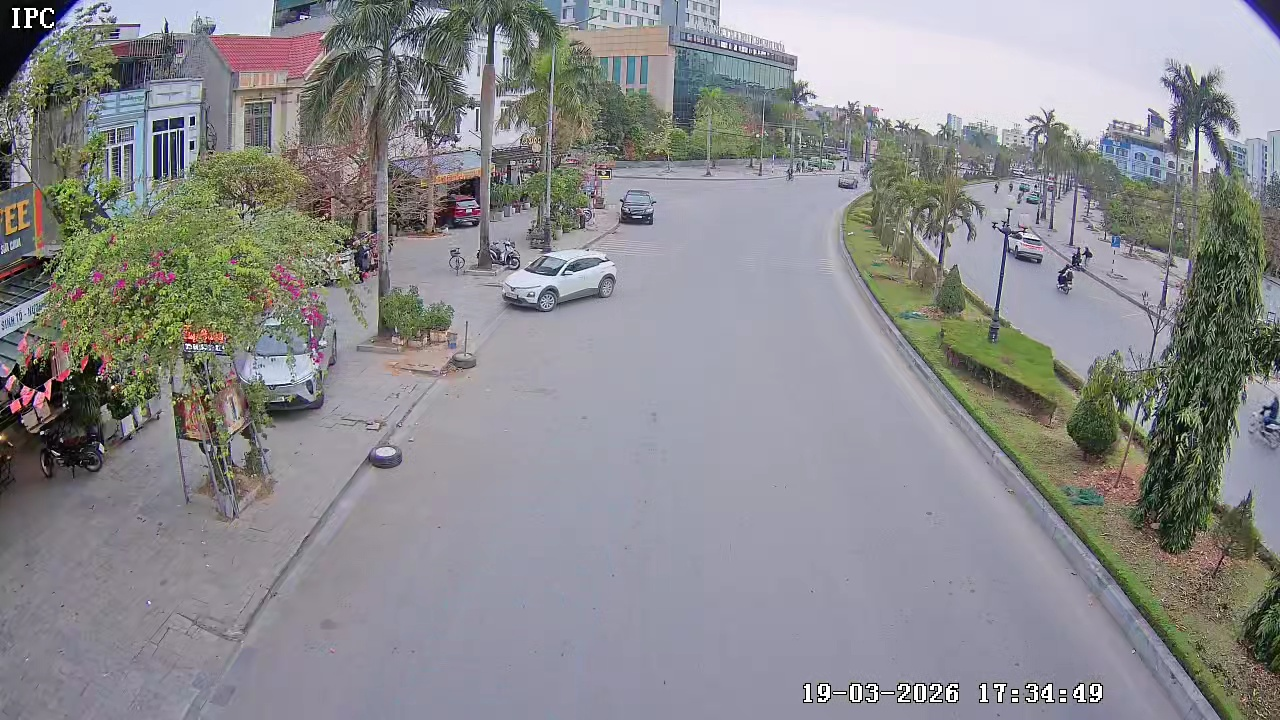car: (498, 247, 619, 312), (616, 187, 658, 225), (1010, 231, 1045, 265)
motorbike: (1055, 254, 1077, 293)
